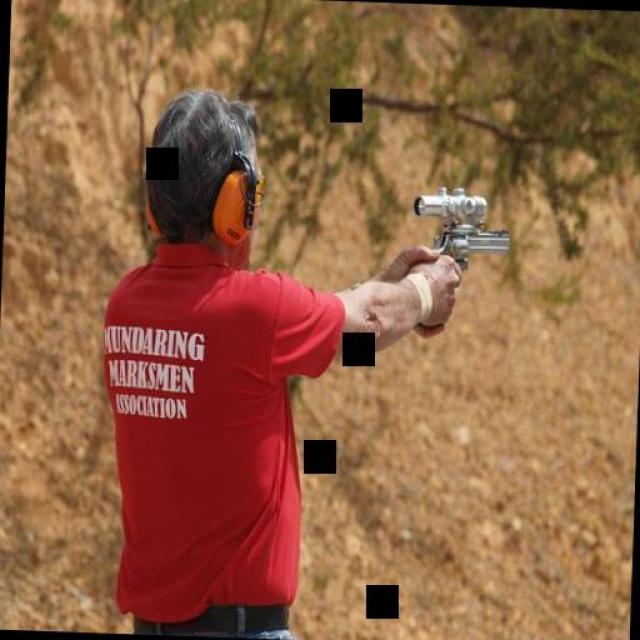gun: (400, 178, 516, 268)
